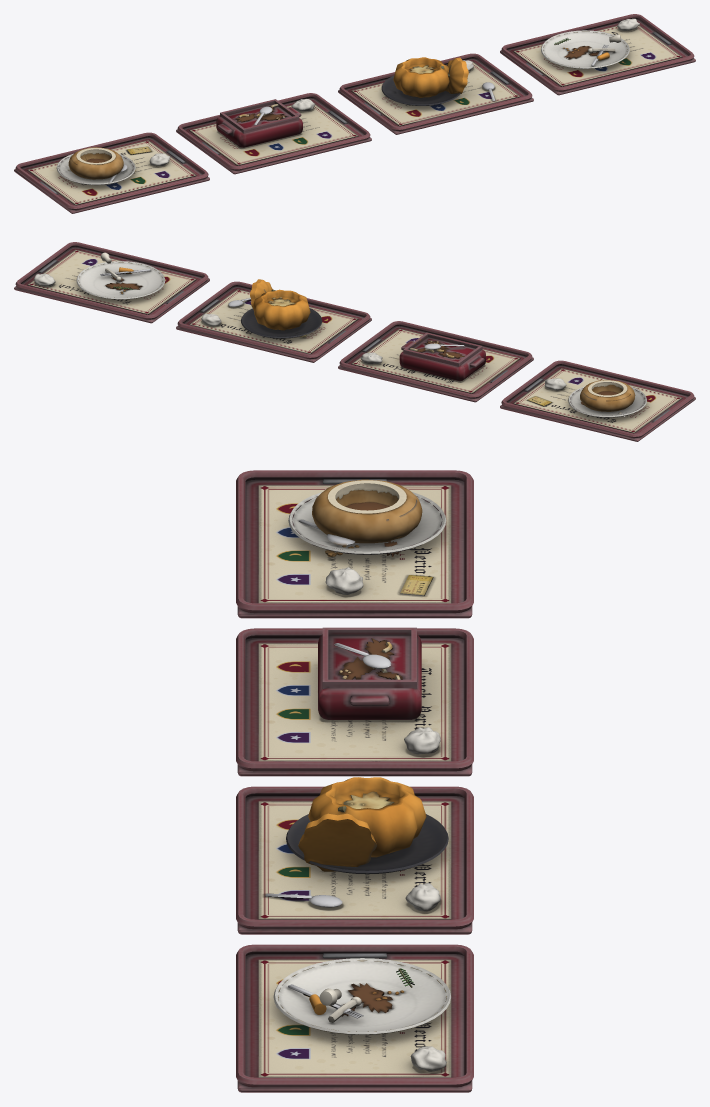
File: ConcessionLunchHouse4.fbx
The picture shows the model from 3 angles, top to bottom: view 1: azimuth 30°, elevation 25°; view 2: azimuth 150°, elevation 25°; view 3: azimuth 270°, elevation 25°; orthographic projection. The views are drawn at different scales.
Parts seen in each view (by area): view 1: ConcessionLunchHouse4_PumpkinGratin, ConcessionLunchHouse4_ShepherdsPie, ConcessionLunchHouse4_RavensRoast, ConcessionLunchHouse4_WitchingStew; view 2: ConcessionLunchHouse4_PumpkinGratin, ConcessionLunchHouse4_RavensRoast, ConcessionLunchHouse4_WitchingStew, ConcessionLunchHouse4_ShepherdsPie; view 3: ConcessionLunchHouse4_PumpkinGratin, ConcessionLunchHouse4_ShepherdsPie, ConcessionLunchHouse4_WitchingStew, ConcessionLunchHouse4_RavensRoast.
Part boxes in pixels (x1,y1,x2,y2): ConcessionLunchHouse4_PumpkinGratin: (338,53,533,134); ConcessionLunchHouse4_ShepherdsPie: (176,93,371,174); ConcessionLunchHouse4_RavensRoast: (500,14,695,95); ConcessionLunchHouse4_WitchingStew: (14,132,209,213); ConcessionLunchHouse4_PumpkinGratin: (176,279,371,362); ConcessionLunchHouse4_RavensRoast: (14,242,209,323); ConcessionLunchHouse4_WitchingStew: (500,360,695,441); ConcessionLunchHouse4_ShepherdsPie: (338,321,533,402); ConcessionLunchHouse4_PumpkinGratin: (236,777,473,934); ConcessionLunchHouse4_ShepherdsPie: (236,627,473,776); ConcessionLunchHouse4_WitchingStew: (236,470,473,618); ConcessionLunchHouse4_RavensRoast: (236,944,473,1092).
Size of the model in its own units: 586 by 32.29 by 96.58.
